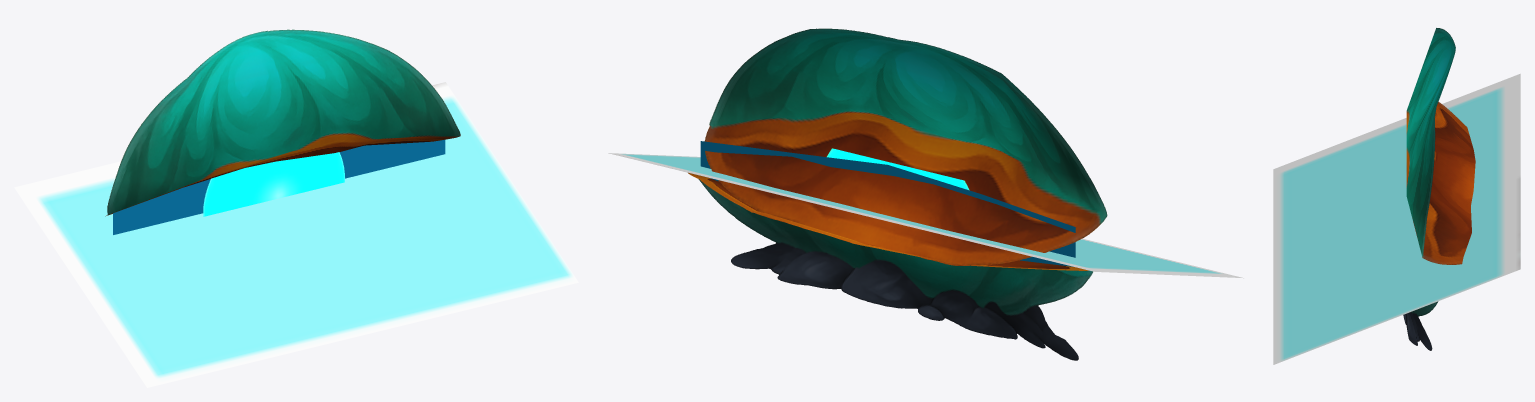
Rendered from Primary_Closed.fbx.
The picture shows the model from 3 angles, left to right: view 1: azimuth 30°, elevation 25°; view 2: azimuth 150°, elevation 25°; view 3: azimuth 270°, elevation 25°; orthographic projection. The views are drawn at different scales.
Visible parts, largest first — view 1: PrimaryClosed; view 2: PrimaryClosed; view 3: PrimaryClosed.
Boxes of the visible parts, bbox=[...] form: PrimaryClosed: bbox=[14, 29, 578, 387]; PrimaryClosed: bbox=[608, 28, 1243, 360]; PrimaryClosed: bbox=[1273, 28, 1520, 364].
Bounding box in the file's own units: 1.72 × 1.08 × 0.9165.
2 materials, 2 textured.
